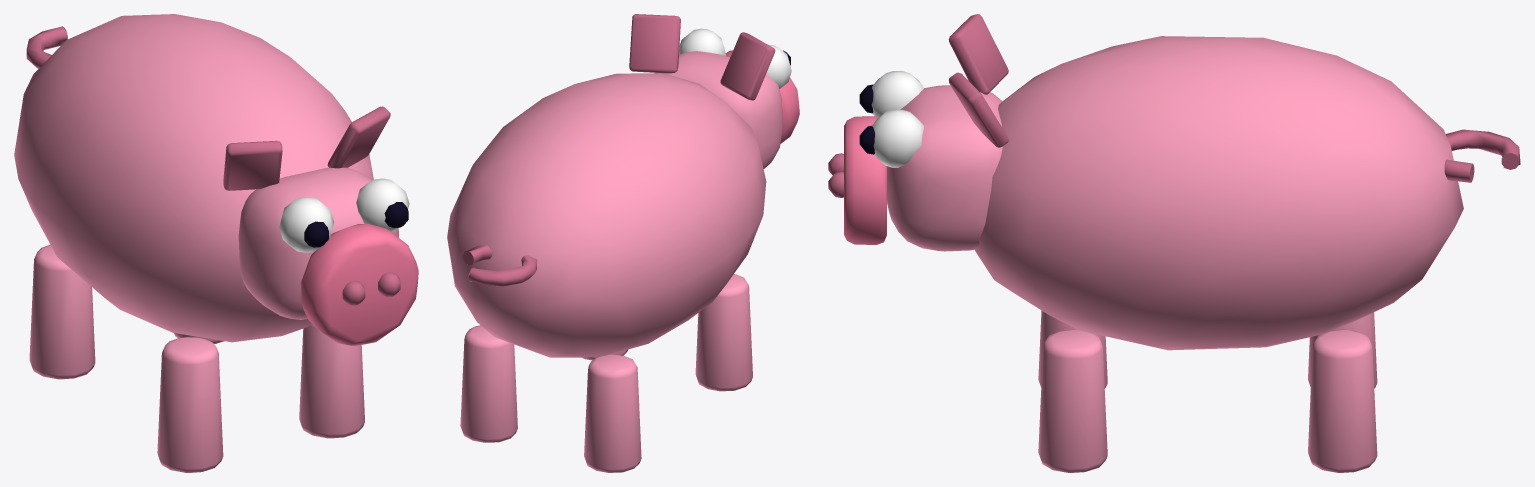
Rendered from b_pig.glb.
3 views of the same model, side by side, from view 1: azimuth 30°, elevation 25°; view 2: azimuth 150°, elevation 25°; view 3: azimuth 270°, elevation 25° (orthographic). The views are drawn at different scales.
Visible parts, largest first — view 1: Sphere; view 2: Sphere; view 3: Sphere.
Boxes of the visible parts, x1,y1,x2,y2 form: Sphere: (14,14,418,472); Sphere: (447,14,799,472); Sphere: (828,14,1520,472).
Size of the model in its own units: 1.24 by 1.53 by 2.57.
